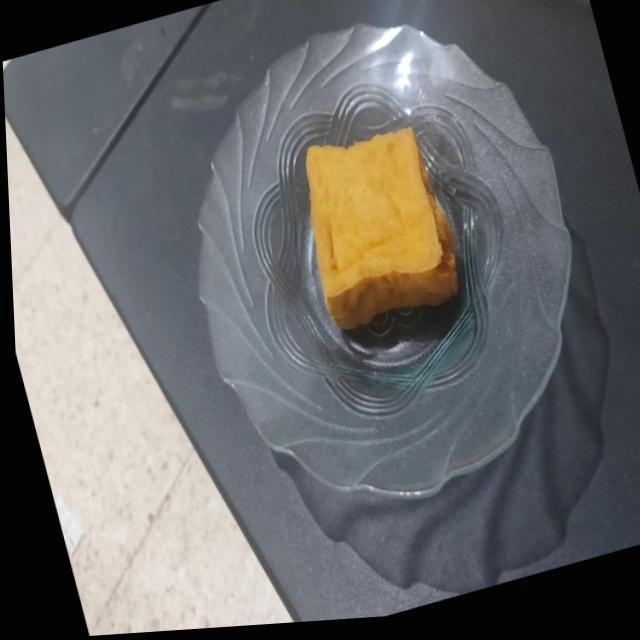tahu_goreng: (306, 127, 457, 329)
